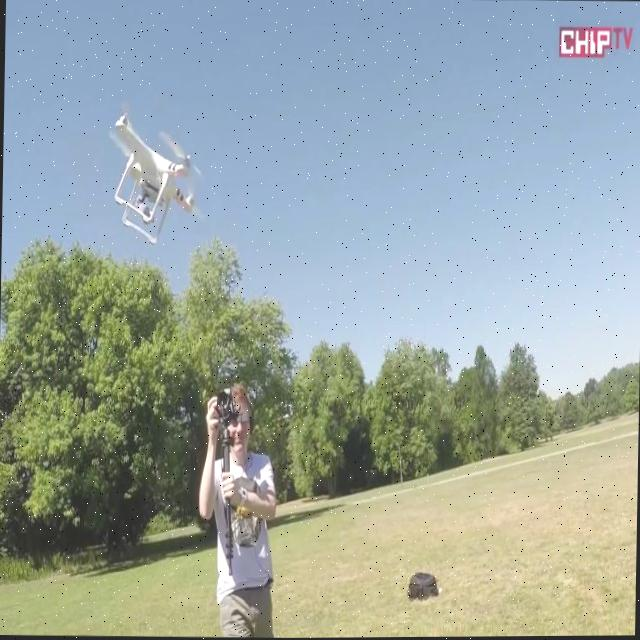drone: (110, 104, 204, 243)
